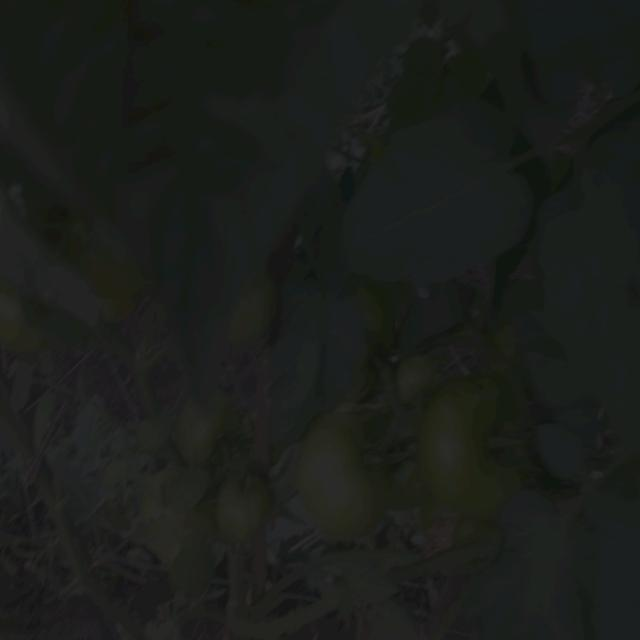tomato: (422, 371, 532, 514), (297, 414, 388, 537), (216, 471, 276, 546), (179, 397, 236, 469), (241, 277, 283, 343), (396, 350, 439, 407), (4, 305, 47, 361)
